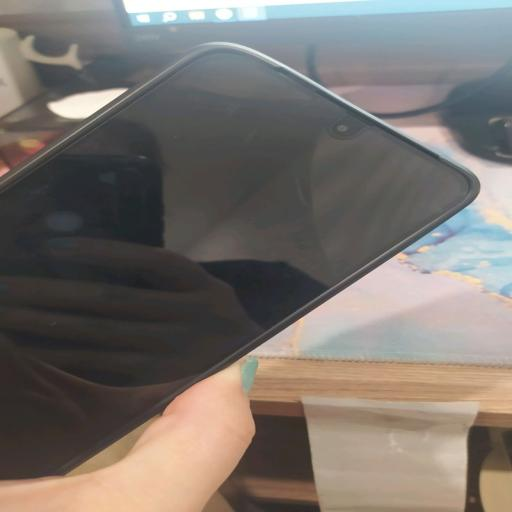people: (0, 44, 478, 478)
